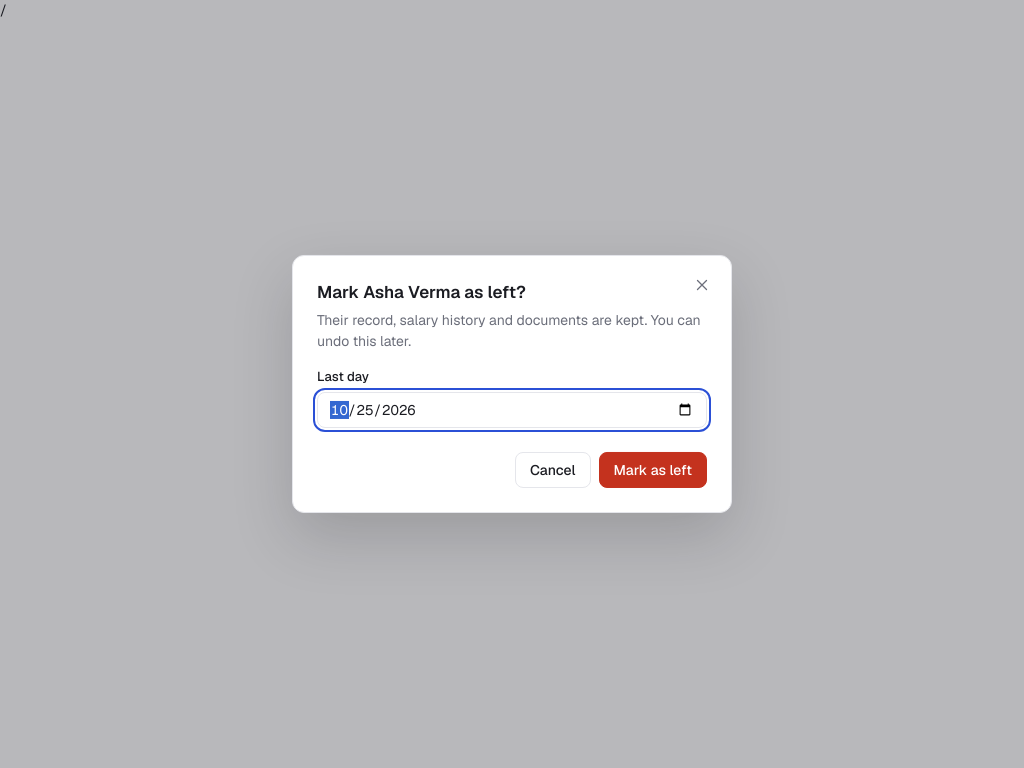
Scenario: Mark as left › needs a last day
Clear the date field labelled "Last day" at coordinates (512, 410), box [317, 392, 707, 428]
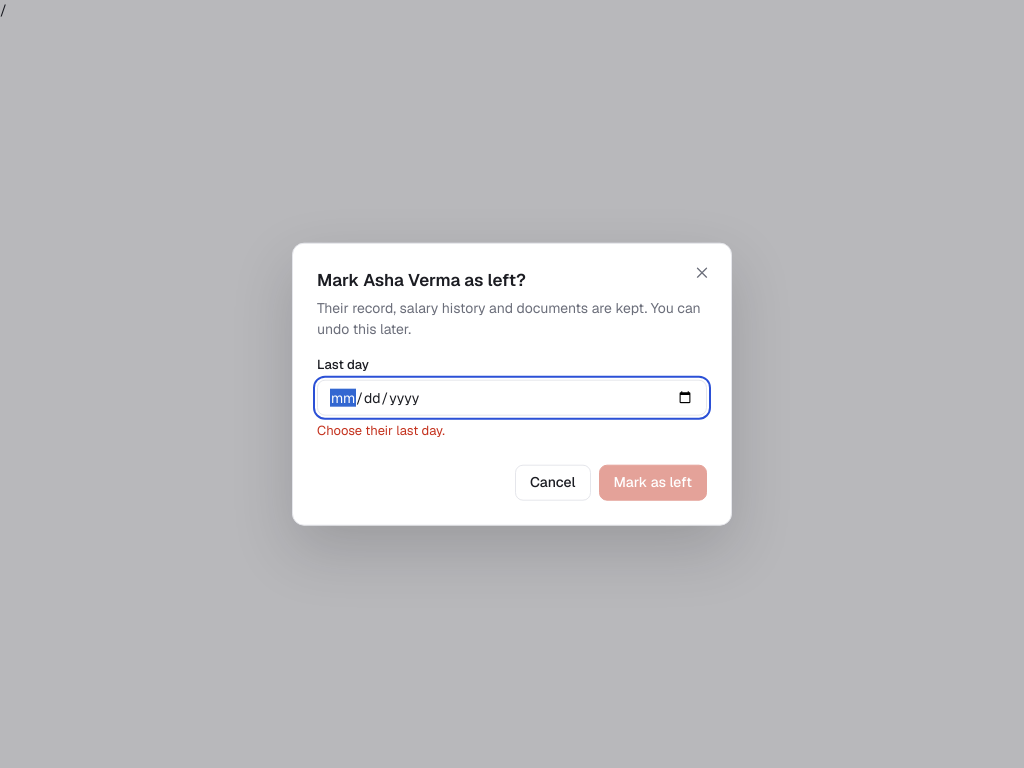
Expected: the text "Choose their last day." is shown, [317, 422, 445, 439]
Expected: the button "Mark as left" is disabled, [598, 464, 707, 500]
